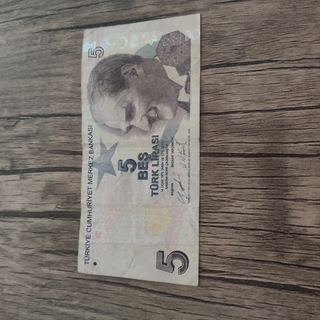5TLFront: (76, 13, 200, 287)
